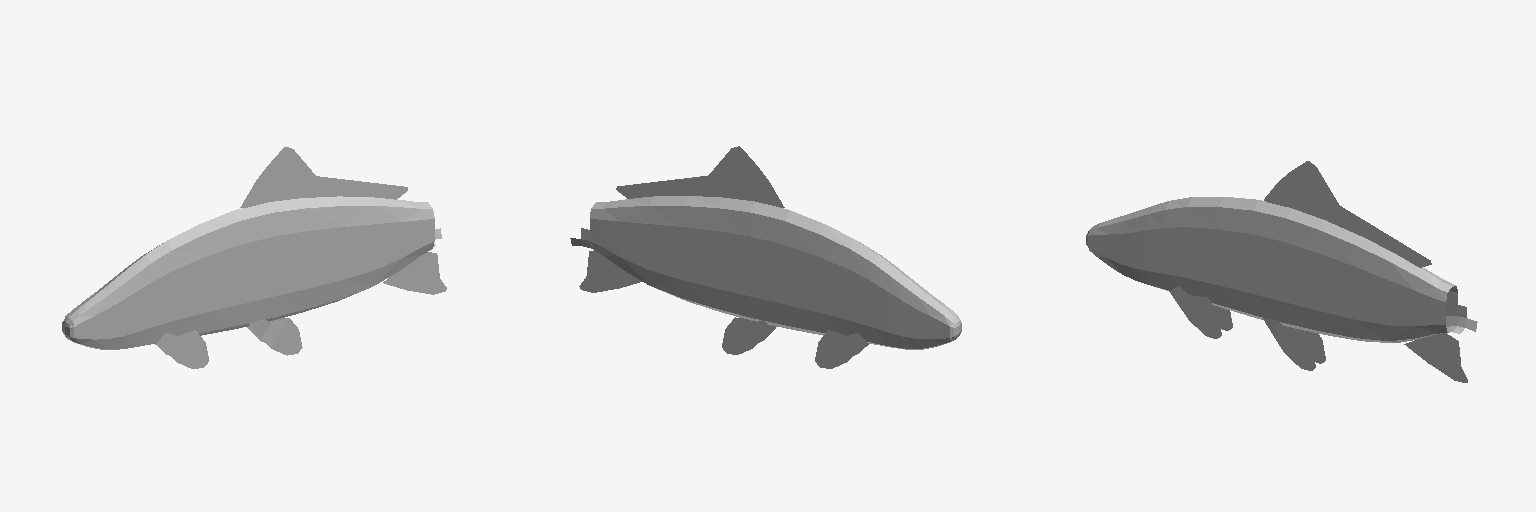
Rendered from pez_cuerpo.obj.
3 renders of one model, left to right at view 1: azimuth 30°, elevation 25°; view 2: azimuth 150°, elevation 25°; view 3: azimuth 330°, elevation 25°, orthographic.
Visible parts, largest first — view 1: polySurface28; view 2: polySurface28; view 3: polySurface28.
Boxes of the visible parts, x1,y1,x2,y2 form: polySurface28: [62, 147, 446, 368]; polySurface28: [570, 146, 961, 368]; polySurface28: [1086, 161, 1477, 382].
Bounding box in the file's own units: 0.1809 × 0.093 × 0.0107.